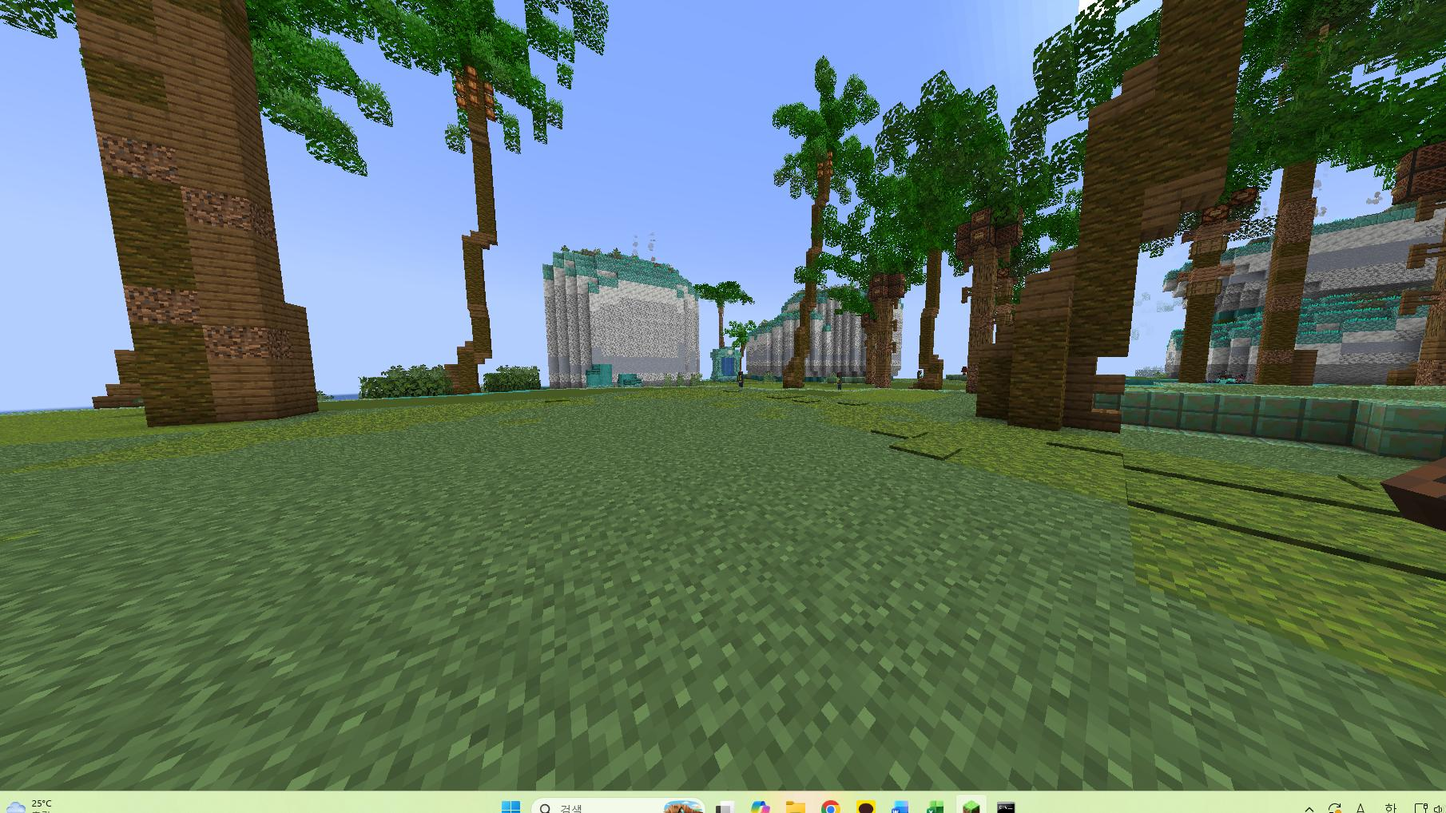Guardian: (833, 371, 844, 391), (737, 366, 745, 387)
